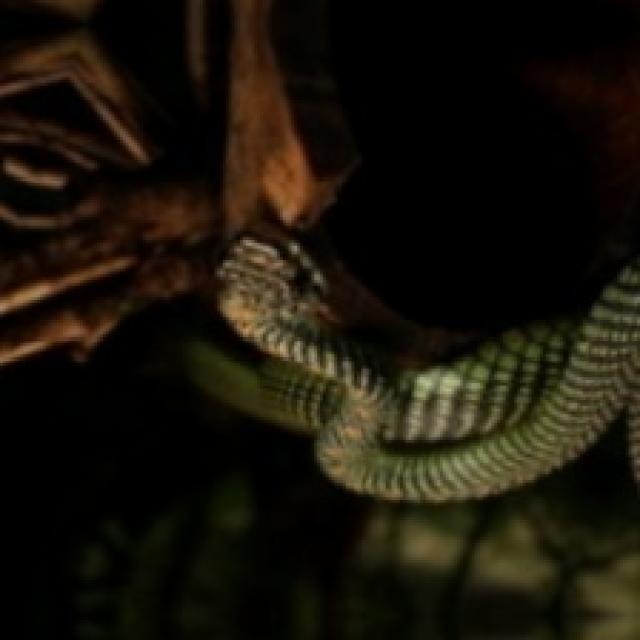paradise tree snake: (192, 238, 640, 502)
